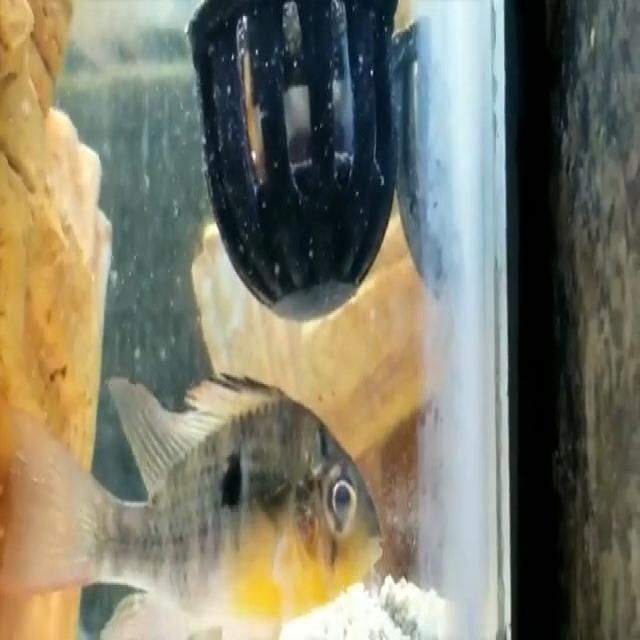fish: (1, 398, 392, 640)
